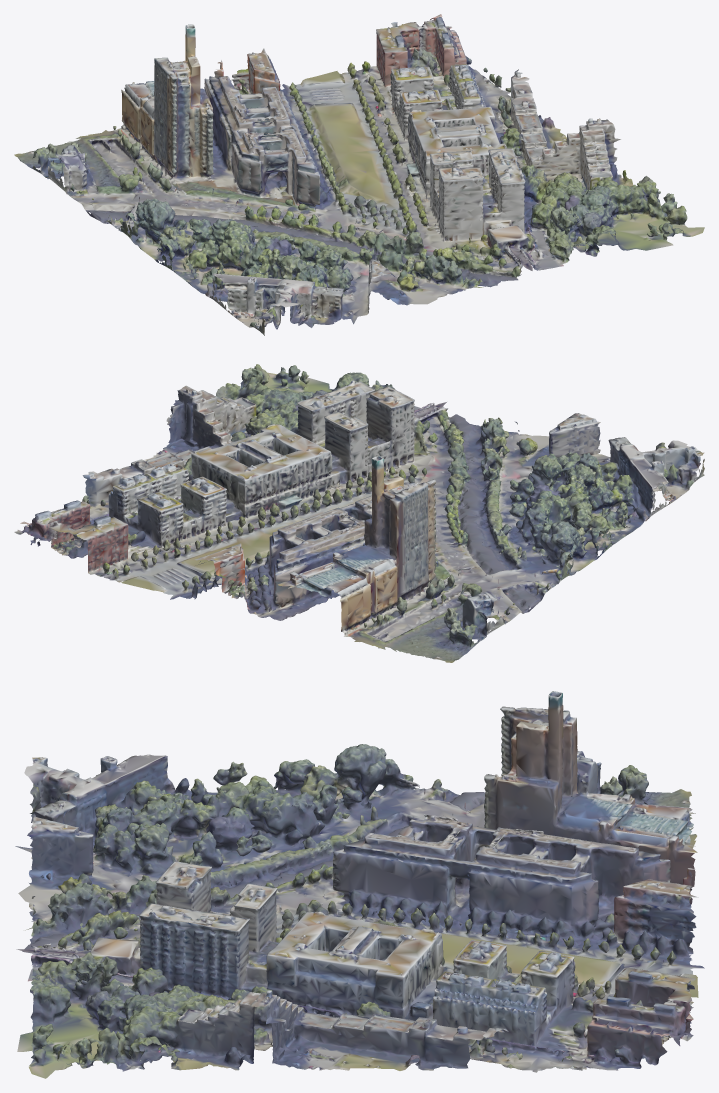
Rendered from surface-detail-3894_58182.glb.
The picture shows the model from 3 angles, top to bottom: view 1: azimuth 30°, elevation 25°; view 2: azimuth 150°, elevation 25°; view 3: azimuth 270°, elevation 25°; orthographic projection. The views are drawn at different scales.
Parts seen in each view (by area): view 1: world; view 2: world; view 3: world.
Part boxes in pixels (x1,y1,x2,y2): world: (14, 14, 704, 335); world: (14, 364, 704, 662); world: (15, 691, 704, 1078).
Size of the model in its own units: 373 by 114 by 380.
